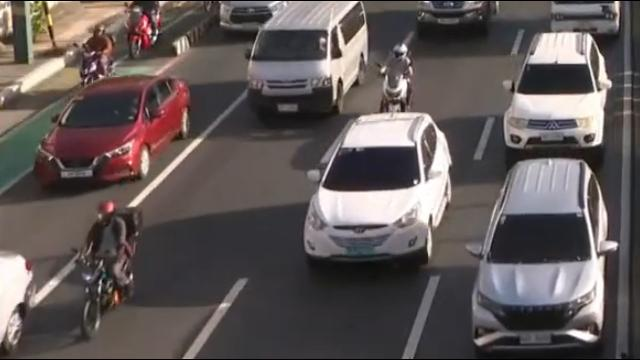car: (464, 157, 620, 357), (302, 111, 453, 269), (31, 75, 190, 193), (502, 30, 611, 164), (412, 0, 500, 40), (214, 0, 285, 36)
motorcycle: (71, 198, 145, 341), (373, 43, 416, 118), (73, 23, 117, 87), (125, 4, 161, 59)
van: (245, 0, 368, 116), (545, 1, 628, 36)
